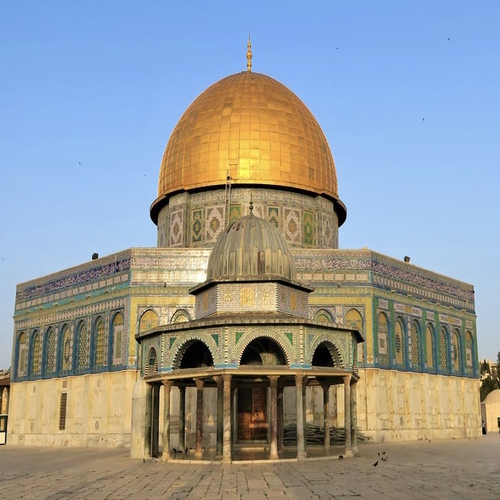Mosque: (12, 36, 480, 448)
